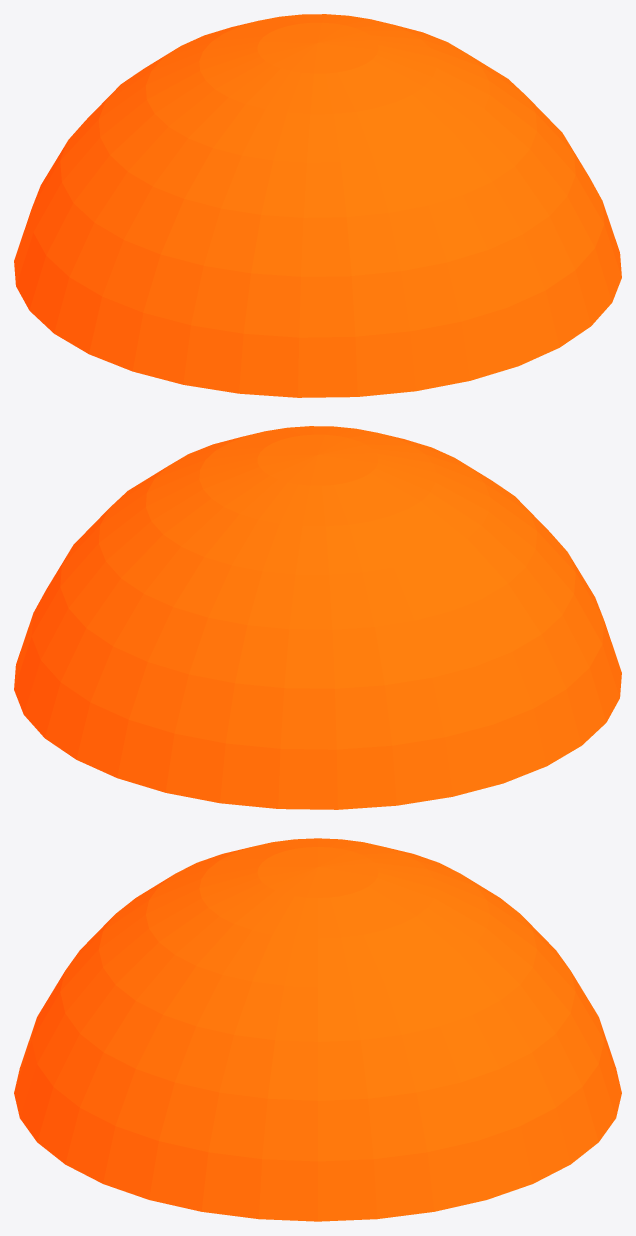
Rendered from holo.f91d6467.gltf.
3 renders of one model, top to bottom at view 1: azimuth 30°, elevation 25°; view 2: azimuth 150°, elevation 25°; view 3: azimuth 270°, elevation 25°, orthographic.
Visible parts, largest first — view 1: Sphere; view 2: Sphere; view 3: Sphere.
Part boxes in pixels (x1,y1,x2,y2): Sphere: [14, 14, 621, 397]; Sphere: [14, 426, 621, 809]; Sphere: [14, 838, 621, 1221].
Bounding box in the file's own units: 16.71 × 6.86 × 16.71.
